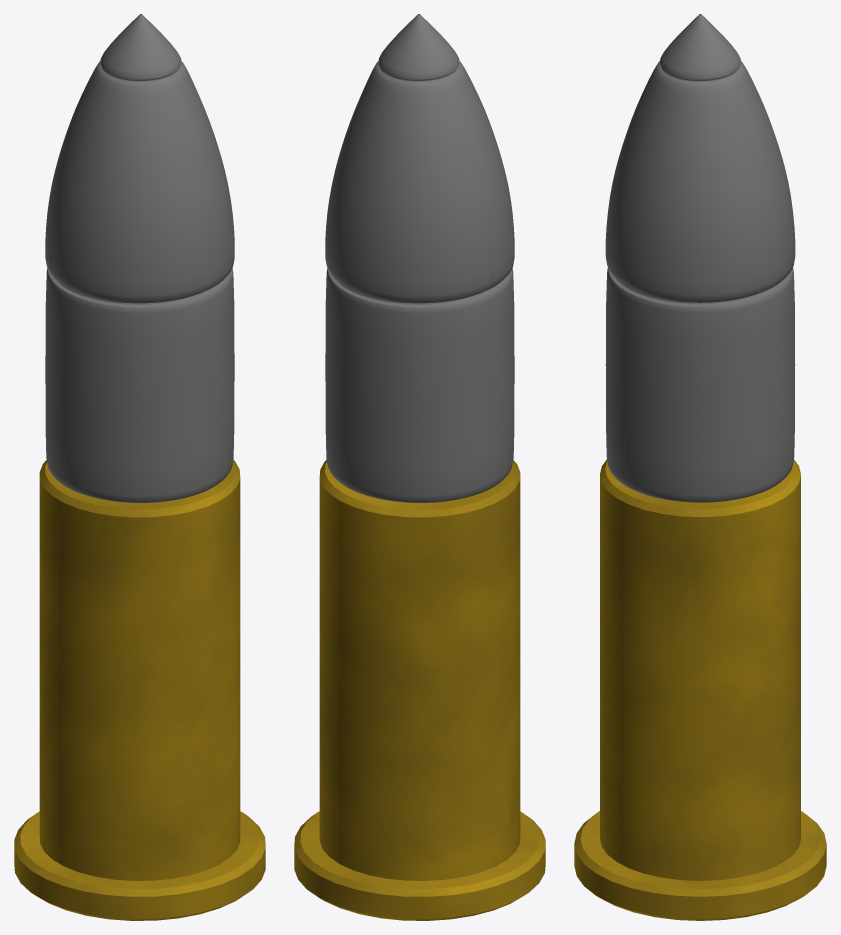
The model's file is tank_shell.fbx.
The picture shows the model from 3 angles, left to right: view 1: azimuth 30°, elevation 25°; view 2: azimuth 150°, elevation 25°; view 3: azimuth 270°, elevation 25°; orthographic projection.
Parts seen in each view (by area): view 1: Cylinder, Cylinder.001; view 2: Cylinder, Cylinder.001; view 3: Cylinder, Cylinder.001.
Part boxes in pixels (box(x1,y1,x2,y2)): Cylinder: box(14, 460, 265, 920); Cylinder.001: box(45, 14, 234, 502); Cylinder: box(294, 460, 545, 920); Cylinder.001: box(325, 14, 514, 502); Cylinder: box(574, 459, 826, 920); Cylinder.001: box(605, 14, 795, 502).
Size of the model in its own units: 128 by 480 by 128.
Materials: 2 (2 with a texture image).
